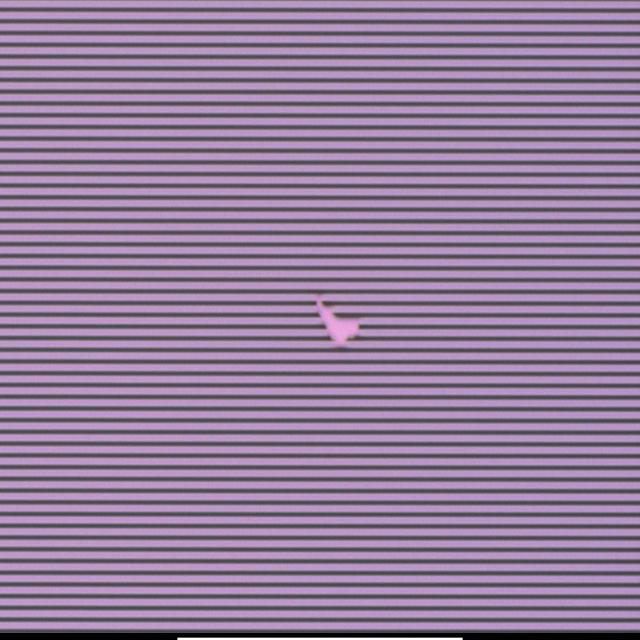03_intrusion: (316, 289, 366, 352)
